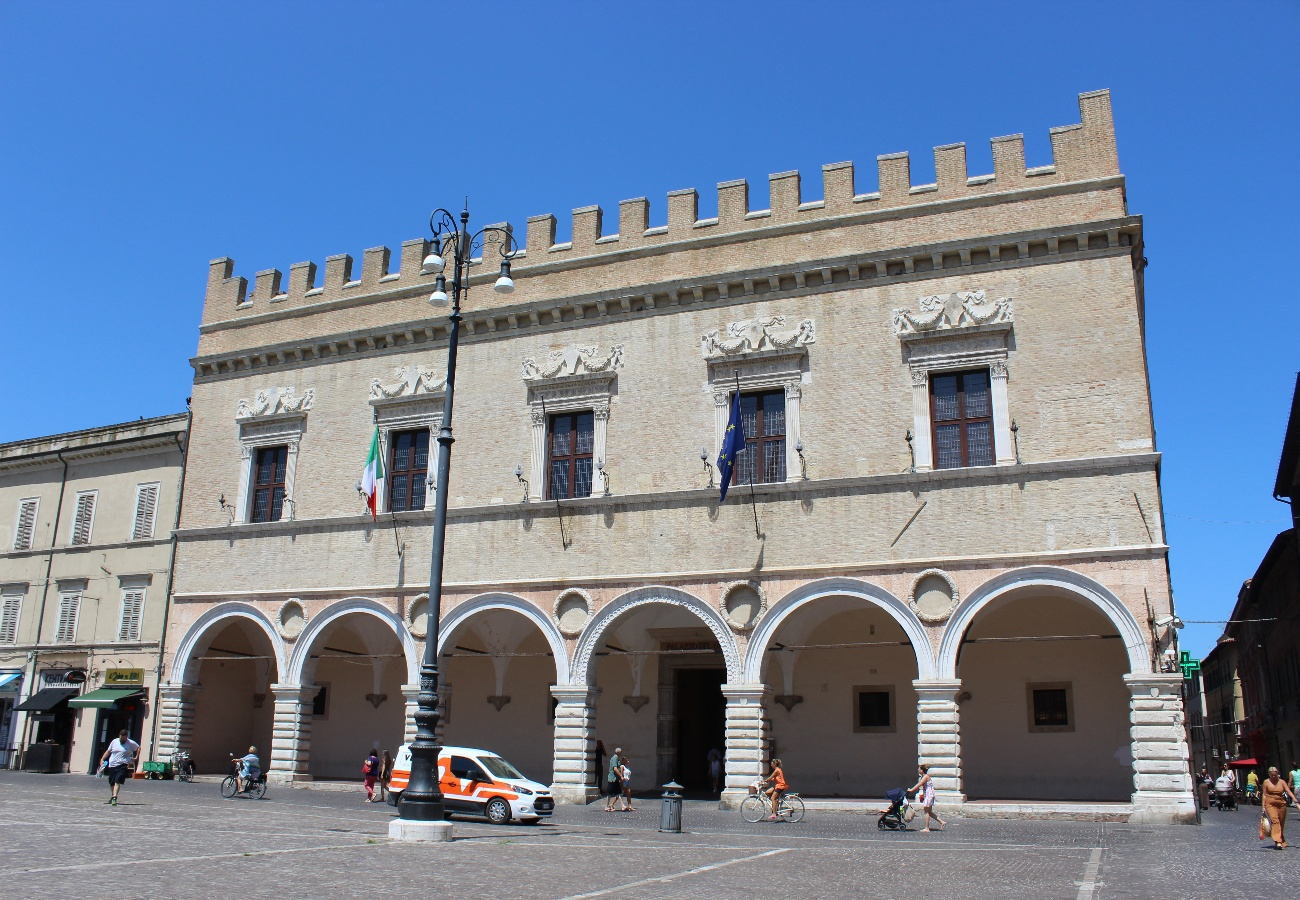Palazzo Ducale: (173, 86, 1171, 812)
